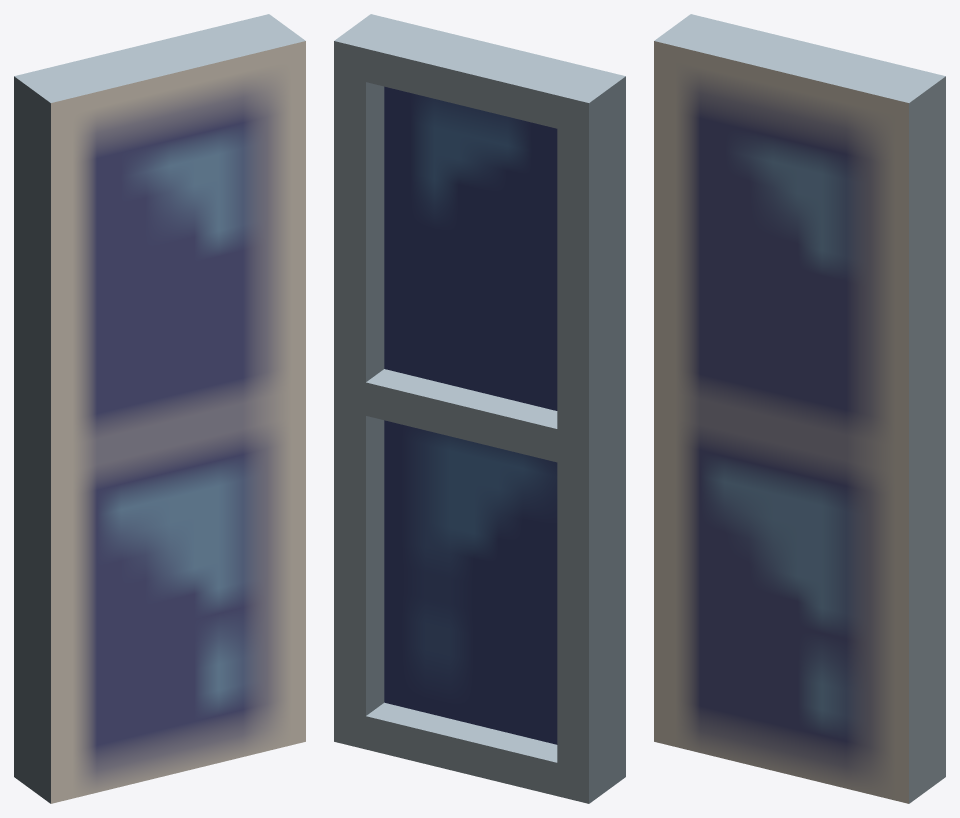
File: DoorC_R.fbx
3 renders of one model, left to right at view 1: azimuth 30°, elevation 25°; view 2: azimuth 150°, elevation 25°; view 3: azimuth 330°, elevation 25°, orthographic.
Parts seen in each view (by area): view 1: DoorC_R; view 2: DoorC_R; view 3: DoorC_R.
Part boxes in pixels (x1,y1,x2,y2): DoorC_R: (14,14,305,803); DoorC_R: (334,14,625,803); DoorC_R: (654,14,945,803).
Bounding box in the file's own units: 8 × 21 × 2.
